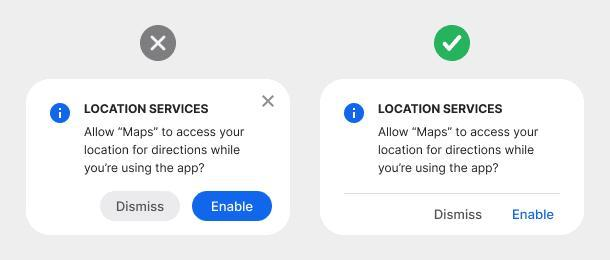button: (192, 191, 274, 223), (102, 193, 180, 224)
icon: (258, 92, 279, 111)
label: (375, 102, 505, 116), (85, 102, 214, 116), (433, 206, 484, 223), (511, 206, 556, 224)
